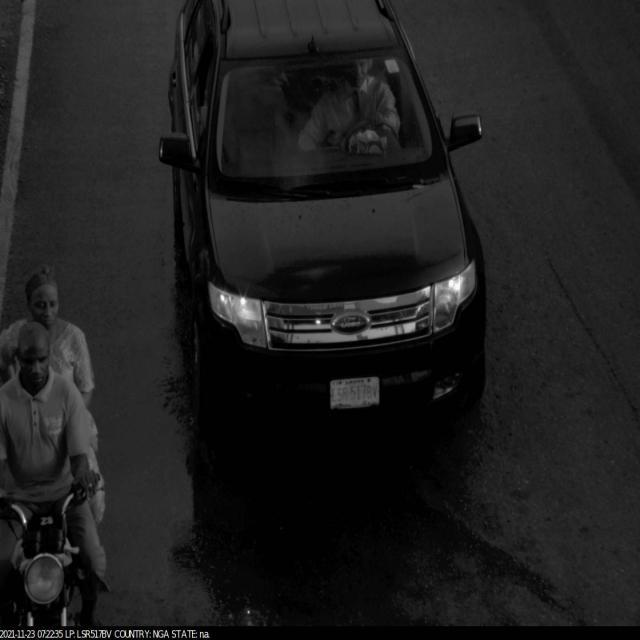windshield: (199, 47, 447, 207)
